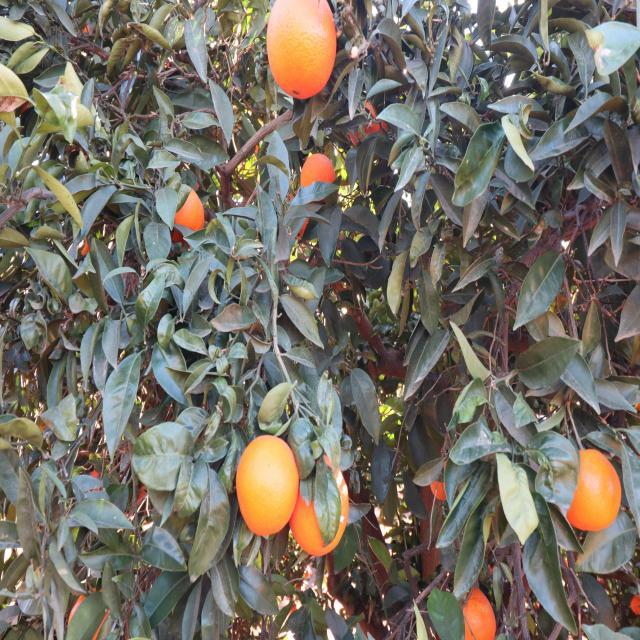Jeruk Sudah Matang: (265, 0, 338, 98), (238, 434, 300, 536), (290, 456, 351, 558), (562, 450, 622, 530), (463, 588, 496, 640), (173, 191, 208, 235), (298, 154, 338, 190), (432, 456, 452, 502)
